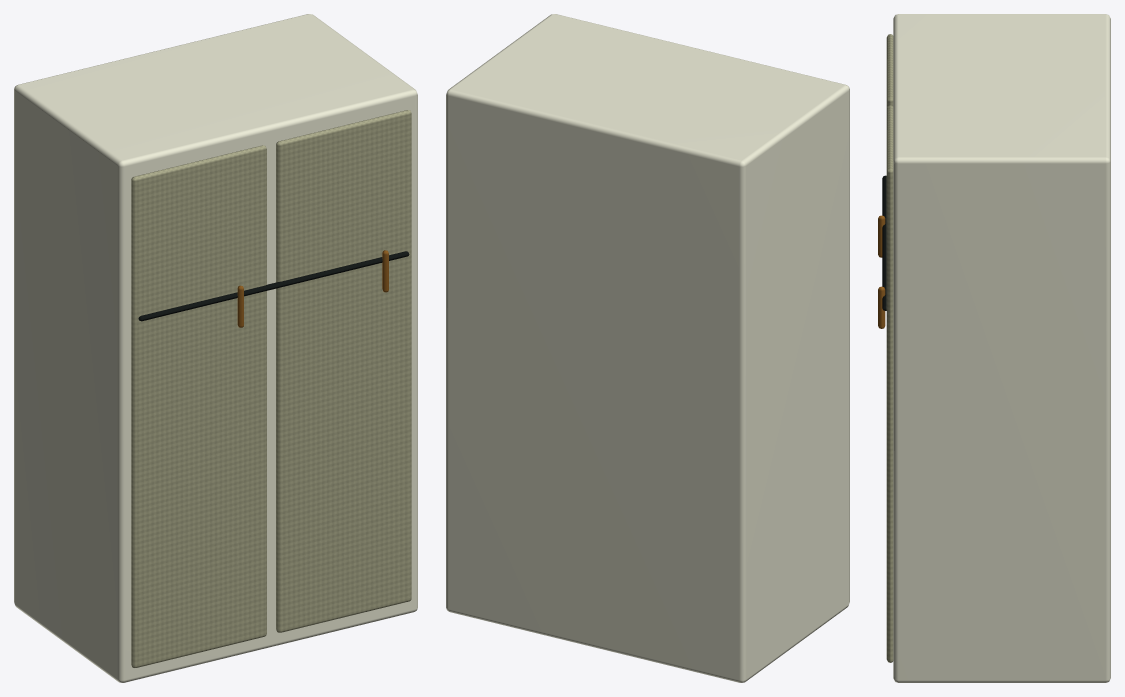
The model's file is fridge.glb.
3 renders of one model, left to right at view 1: azimuth 30°, elevation 25°; view 2: azimuth 150°, elevation 25°; view 3: azimuth 270°, elevation 25°, orthographic.
Visible parts, largest first — view 1: V2_fridge_cloth.005, V2_fridge_white.005, V2_fridge_metal.005; view 2: V2_fridge_white.005; view 3: V2_fridge_white.005, V2_fridge_cloth.005, V2_fridge_metal.005, V2_fridge_brass.005.
Part boxes in pixels (x1,y1,x2,y2): V2_fridge_cloth.005: (131, 110, 411, 667); V2_fridge_white.005: (14, 14, 417, 682); V2_fridge_metal.005: (138, 251, 409, 321); V2_fridge_white.005: (446, 14, 849, 682); V2_fridge_white.005: (893, 14, 1110, 682); V2_fridge_cloth.005: (886, 34, 893, 662); V2_fridge_metal.005: (882, 175, 886, 310); V2_fridge_brass.005: (878, 215, 885, 328).
Bounding box in the file's own units: 1.2 × 2 × 0.8025.
Materials: 4 (1 with a texture image).
